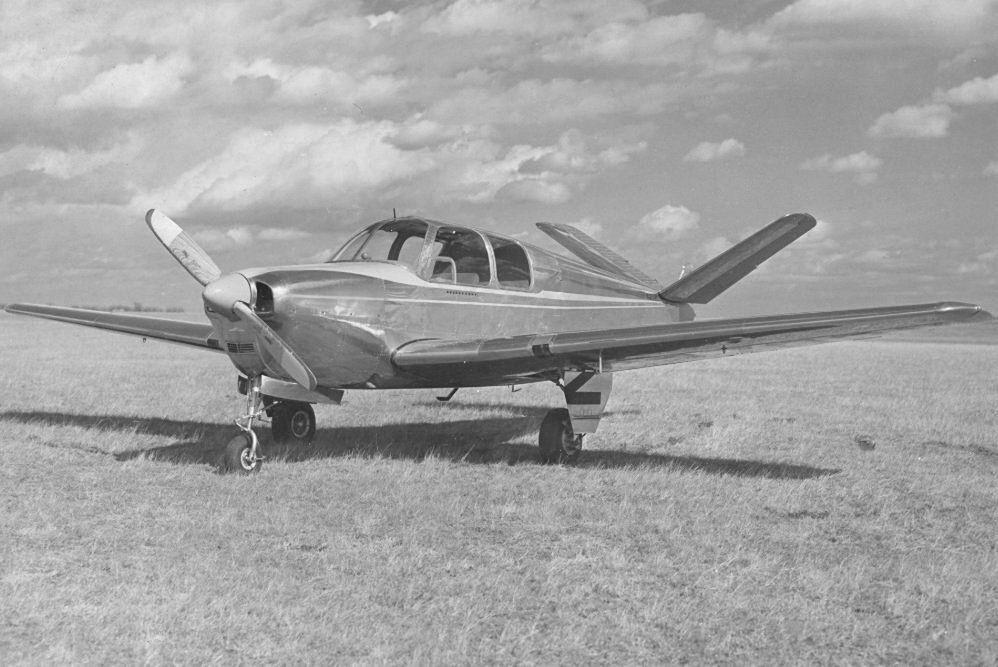Propeller: (143, 170, 327, 409)
